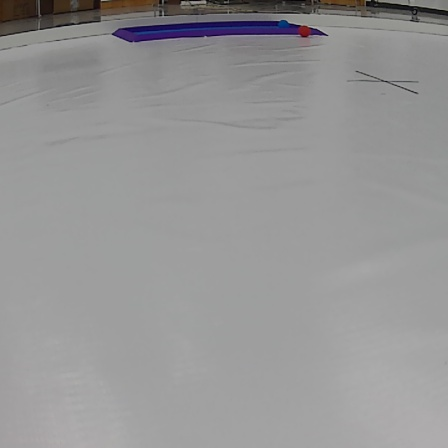blue: (277, 17, 290, 30)
blue_aim: (108, 18, 345, 42)
red: (295, 23, 314, 40)
